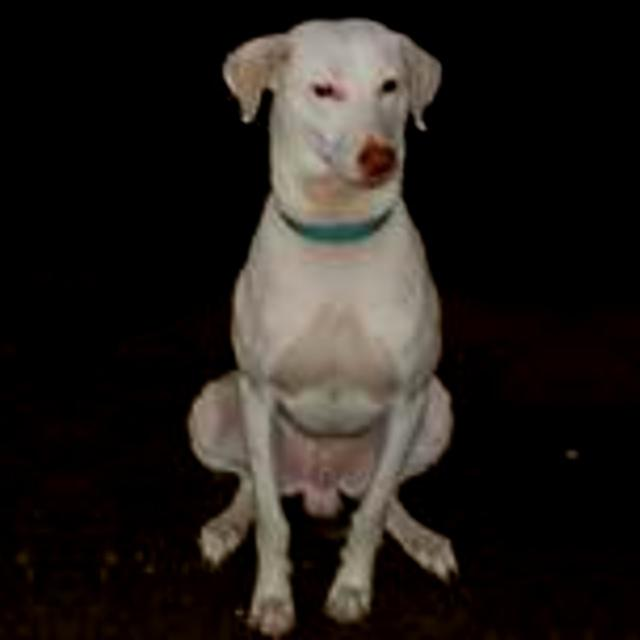dog: (109, 28, 458, 640), (0, 28, 27, 640)
